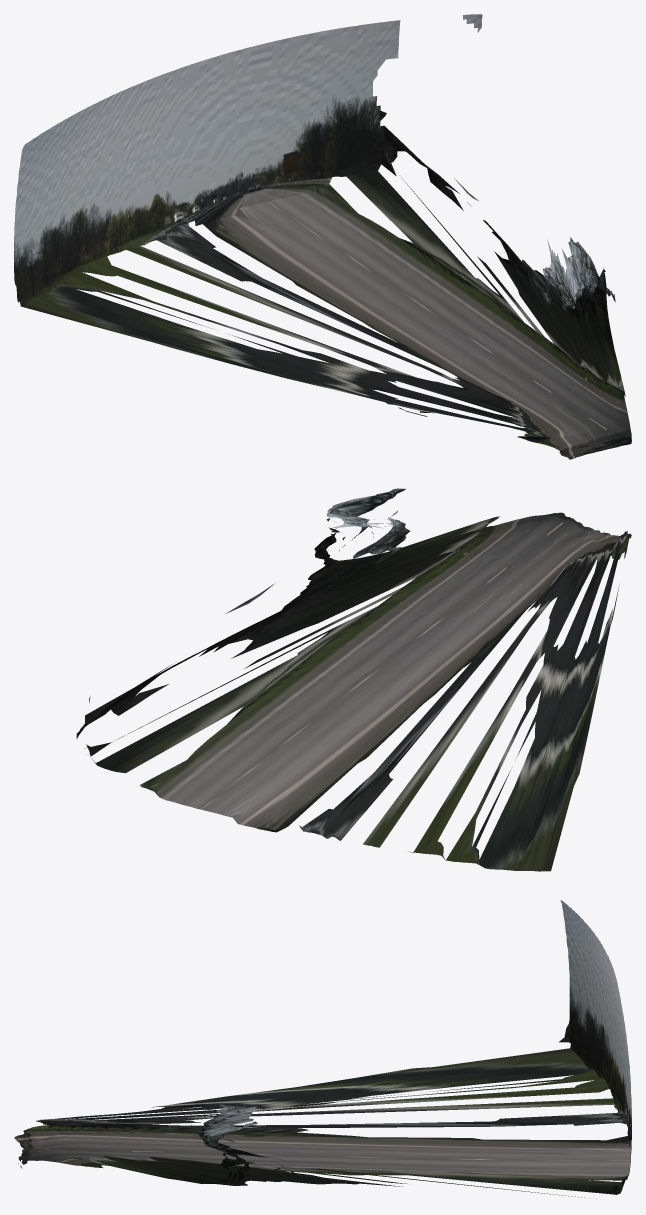
3 renders of one model, top to bottom at view 1: azimuth 30°, elevation 25°; view 2: azimuth 150°, elevation 25°; view 3: azimuth 270°, elevation 25°, orthographic. The views are drawn at different scales.
Visible parts, largest first — view 1: defaultobject; view 2: defaultobject; view 3: defaultobject.
Part boxes in pixels (left/top/right/bottom): defaultobject: left=14, top=14, right=631, bottom=459; defaultobject: left=76, top=488, right=631, bottom=871; defaultobject: left=14, top=900, right=631, bottom=1198.
Size of the model in its own units: 35.66 by 12.64 by 44.64.
1 material, 1 textured.
